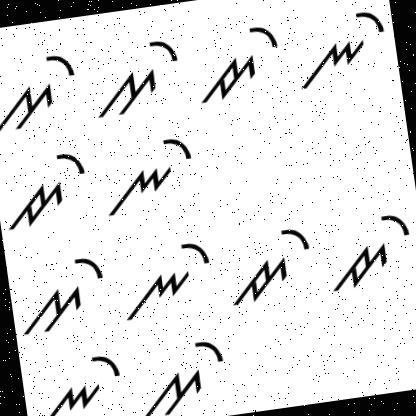jay: (188, 14, 288, 110), (0, 145, 93, 236), (322, 206, 416, 294), (222, 222, 316, 309)
nyay: (292, 0, 394, 100), (110, 230, 217, 324), (95, 127, 200, 221), (25, 345, 130, 416)
say: (86, 30, 188, 125), (12, 248, 112, 341), (133, 328, 231, 416), (0, 47, 84, 139)
